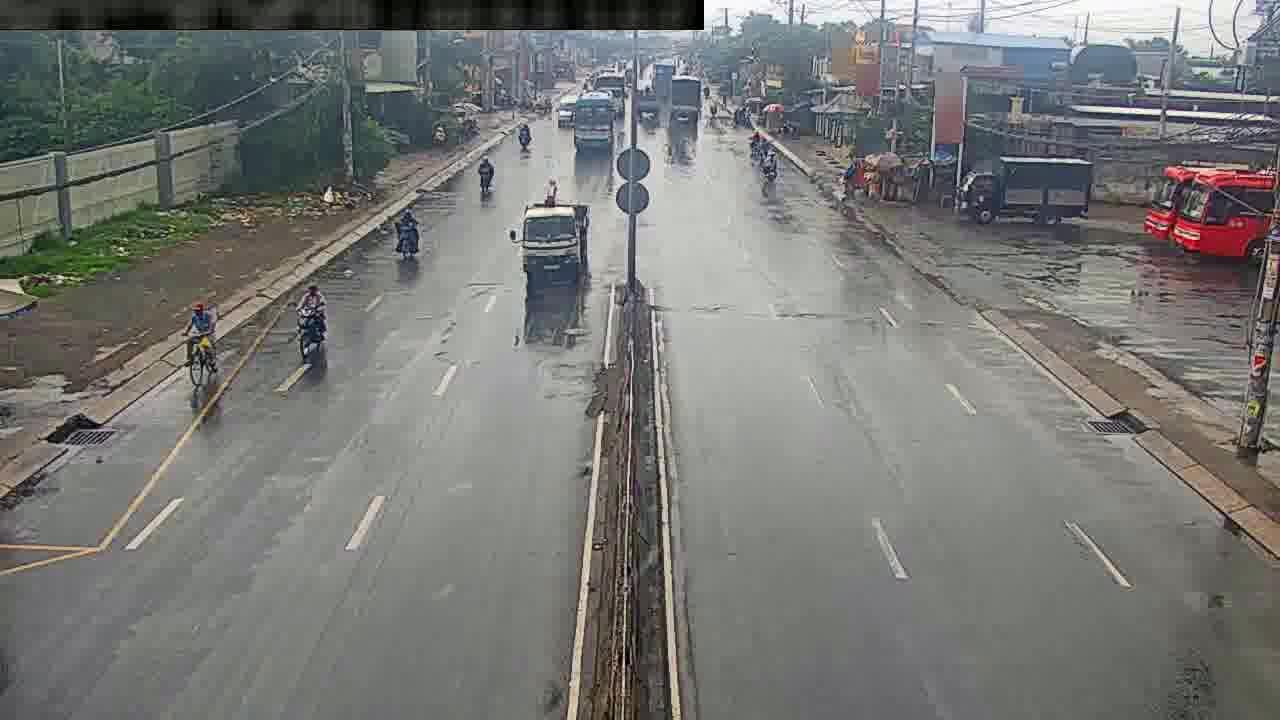14: (571, 93, 616, 151)
8: (521, 197, 589, 284), (666, 79, 701, 125)
motorbike: (296, 279, 330, 368), (186, 301, 220, 384), (395, 205, 420, 263), (478, 151, 494, 196), (762, 147, 778, 190), (518, 115, 533, 154)
